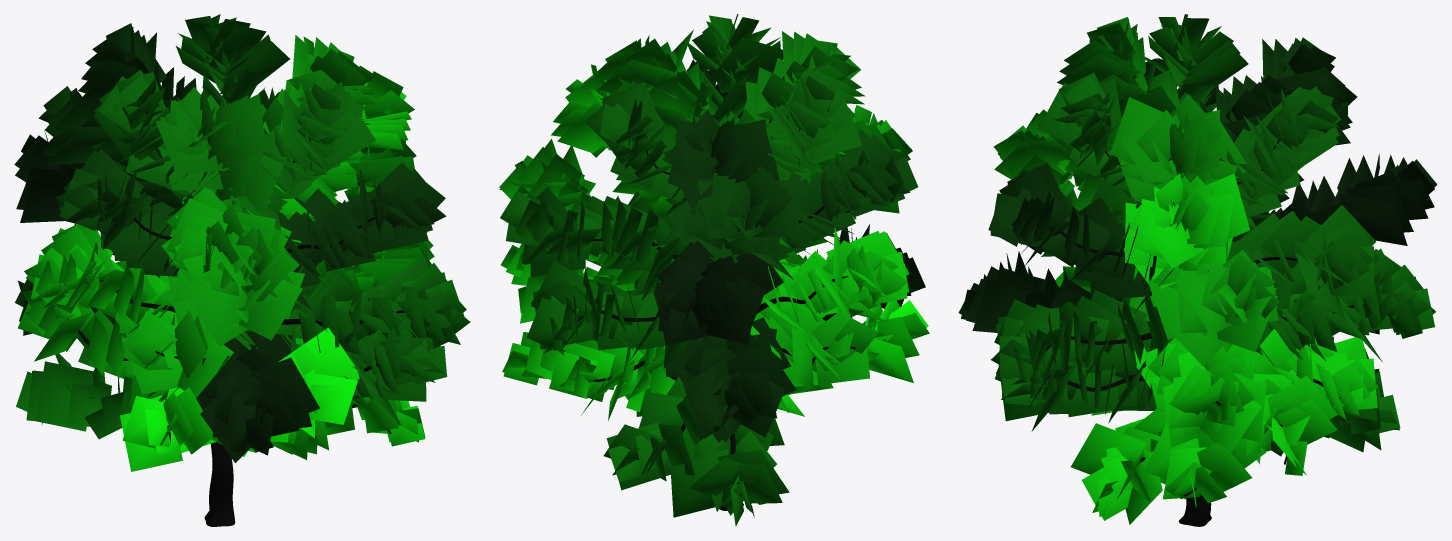
File: Maple_8.fbx
3 views of the same model, side by side, from view 1: azimuth 30°, elevation 25°; view 2: azimuth 150°, elevation 25°; view 3: azimuth 270°, elevation 25° (orthographic). The views are drawn at different scales.
Visible parts, largest first — view 1: Maple_8; view 2: Maple_8; view 3: Maple_8.
Part boxes in pixels (bbox=[...]): Maple_8: bbox=[14, 14, 470, 526]; Maple_8: bbox=[499, 14, 929, 526]; Maple_8: bbox=[958, 14, 1437, 526].
Bounding box in the file's own units: 378 × 415 × 382.
